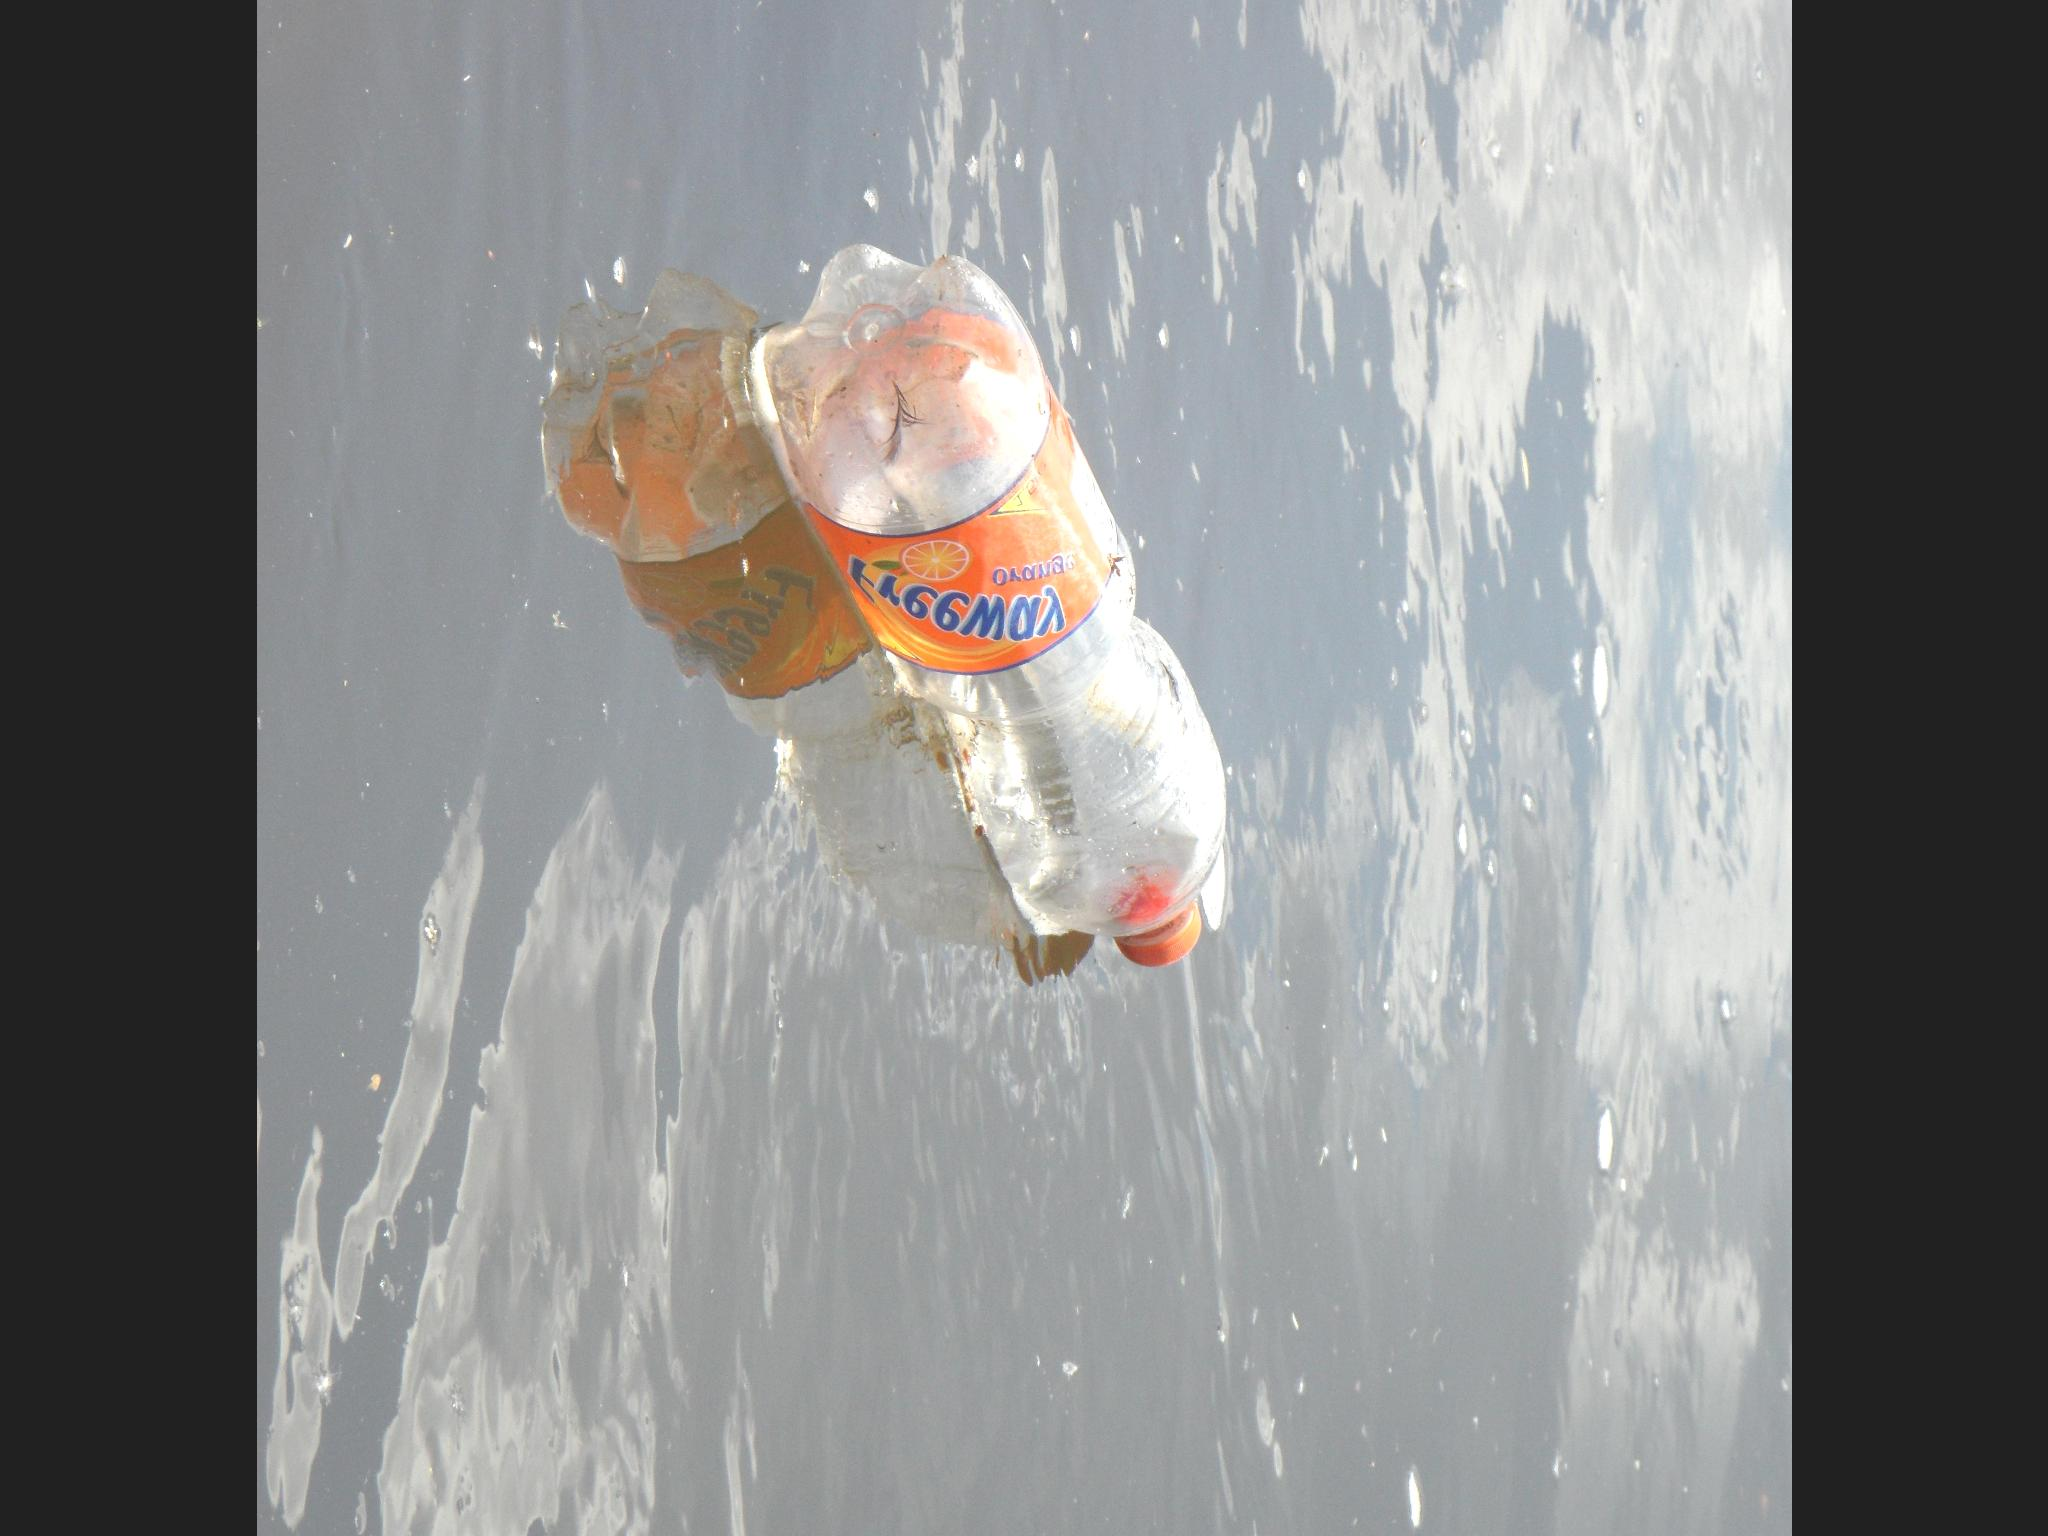bottle: (739, 232, 1235, 978)
